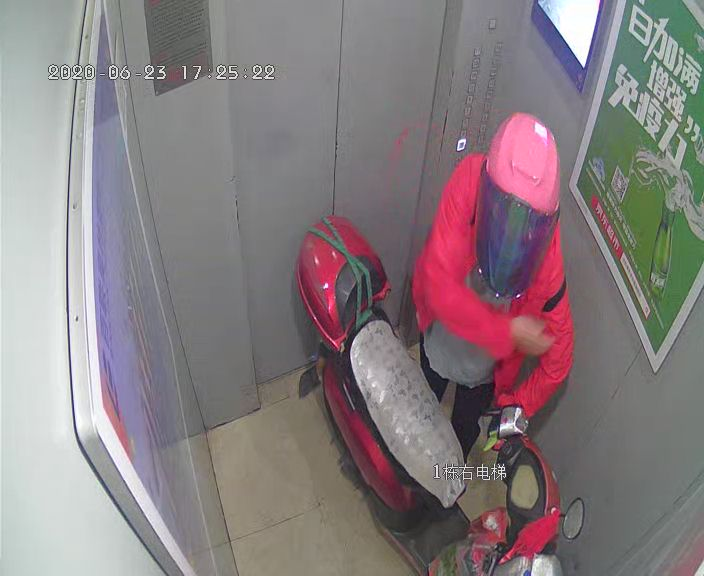Electric-bicycle: (302, 216, 584, 570)
